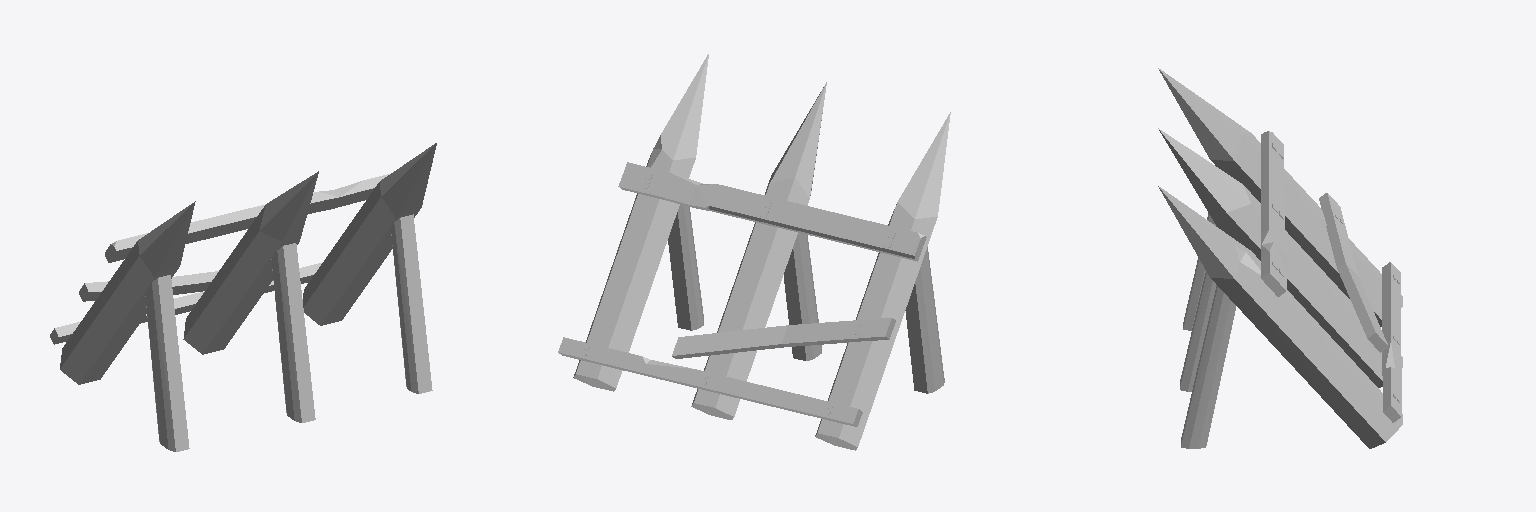
Rendered from Spikes_2.obj.
3 views of the same model, side by side, from view 1: azimuth 30°, elevation 25°; view 2: azimuth 150°, elevation 25°; view 3: azimuth 270°, elevation 25° (orthographic).
Parts seen in each view (by area): view 1: Spikes_2; view 2: Spikes_2; view 3: Spikes_2.
Boxes of the visible parts, x1=… form: Spikes_2: x1=50, y1=143, x2=436, y2=451; Spikes_2: x1=558, y1=54, x2=950, y2=450; Spikes_2: x1=1158, y1=68, x2=1402, y2=448.
Size of the model in its own units: 1.25 by 1.04 by 0.8895.